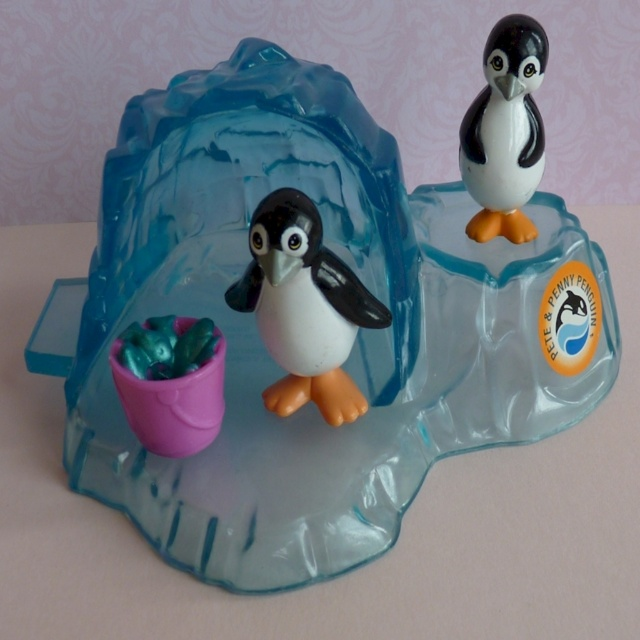Penguin: (228, 188, 392, 433), (458, 16, 549, 247)
